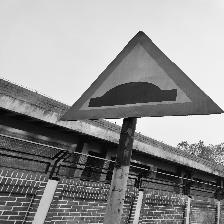Speed-breaker: (63, 38, 216, 118)
